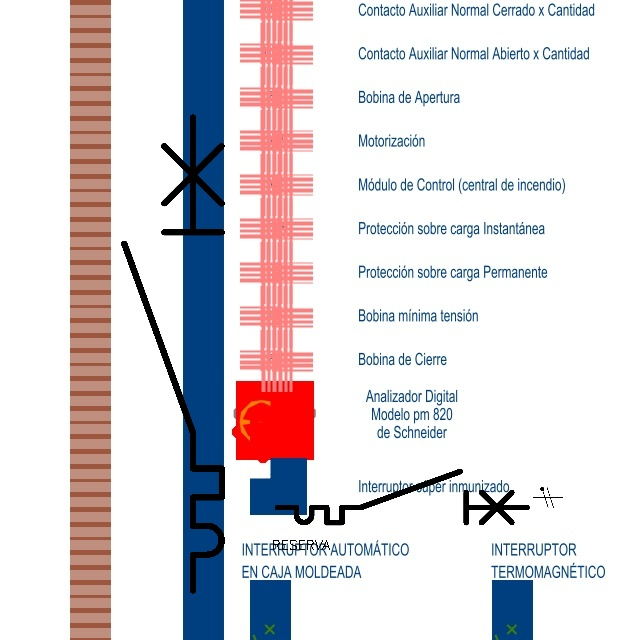interruptor_termomagnetico: (112, 105, 234, 603), (271, 465, 533, 529)
